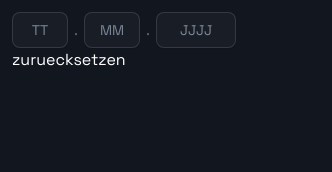
Test: BirthdateField › meldet erst nach außen, wenn das Datum vollständig ist
This screenshot has width=332, height=172.
In the field with placeholder "TT": (40, 30) [12,12,68,48], type "10"
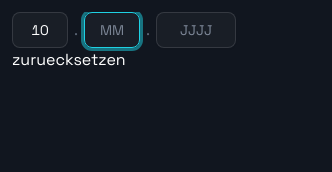
In the field with placeholder "MM": (112, 30) [84,12,140,48], type "04"
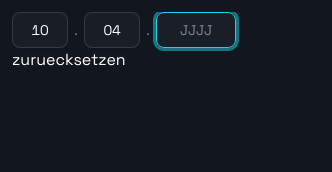
In the field with placeholder "JJJJ": (196, 30) [156,12,236,48], type "2013"
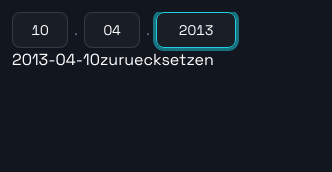
Result: the text with test id "iso" reads "2013-04-10" at [12,49,100,70]
